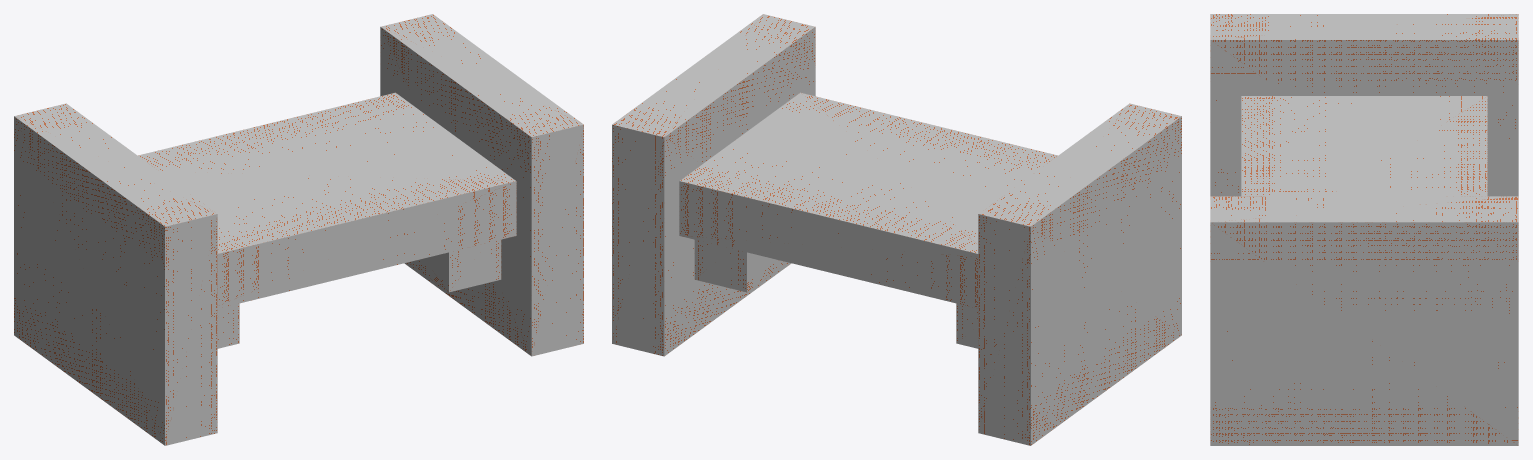
Rendered from wood-bench.fbx.
The picture shows the model from 3 angles, left to right: view 1: azimuth 30°, elevation 25°; view 2: azimuth 150°, elevation 25°; view 3: azimuth 270°, elevation 25°; orthographic projection.
Visible parts, largest first — view 1: generated; view 2: generated; view 3: generated.
Boxes of the visible parts, left/top/right/bottom form: generated: left=14, top=14, right=583, bottom=445; generated: left=612, top=14, right=1181, bottom=445; generated: left=1210, top=14, right=1518, bottom=445.
Size of the model in its own units: 80 by 40 by 50.
Materials: 1 (1 with a texture image).
